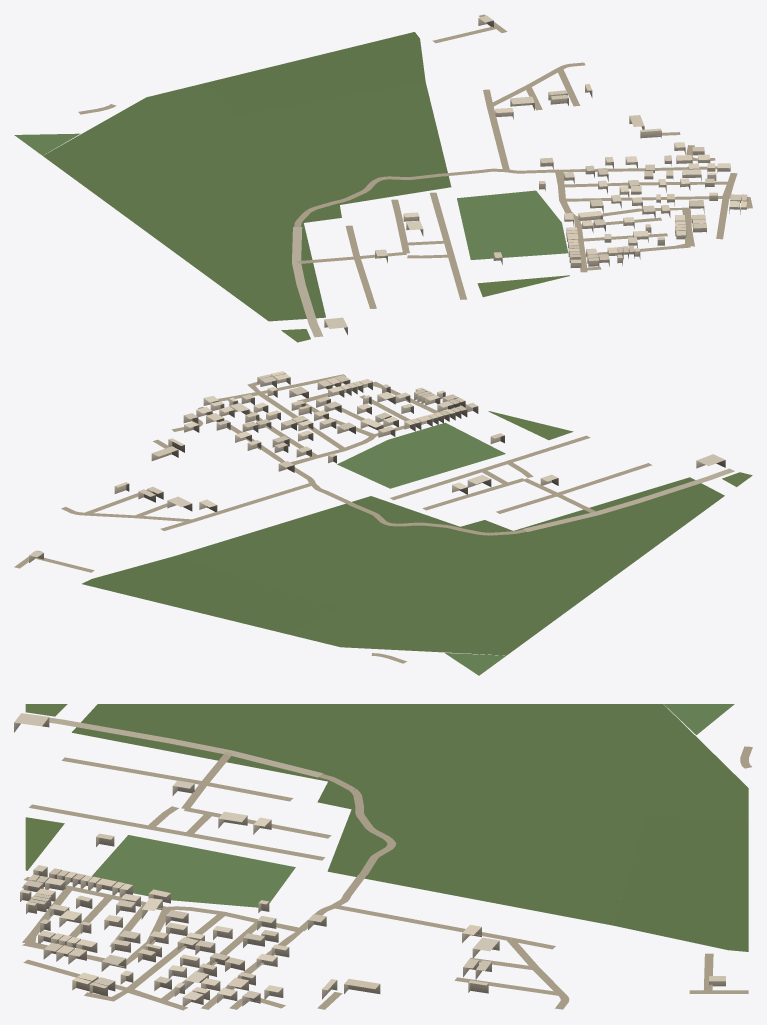
The picture shows the model from 3 angles, top to bottom: view 1: azimuth 30°, elevation 25°; view 2: azimuth 150°, elevation 25°; view 3: azimuth 270°, elevation 25°; orthographic projection. The views are drawn at different scales.
Visible parts, largest first — view 1: ground, building; view 2: ground, building; view 3: ground, building.
Boxes of the visible parts, x1,y1,x2,y2 form: ground: [14, 14, 752, 342]; building: [324, 15, 747, 334]; ground: [14, 374, 752, 675]; building: [29, 371, 725, 562]; ground: [22, 704, 752, 1010]; building: [14, 713, 725, 1006].
Bounding box in the file's own units: 502 × 8 × 511.
